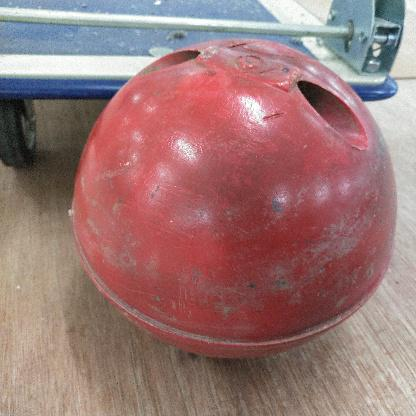red_buoy: (72, 32, 400, 384)
